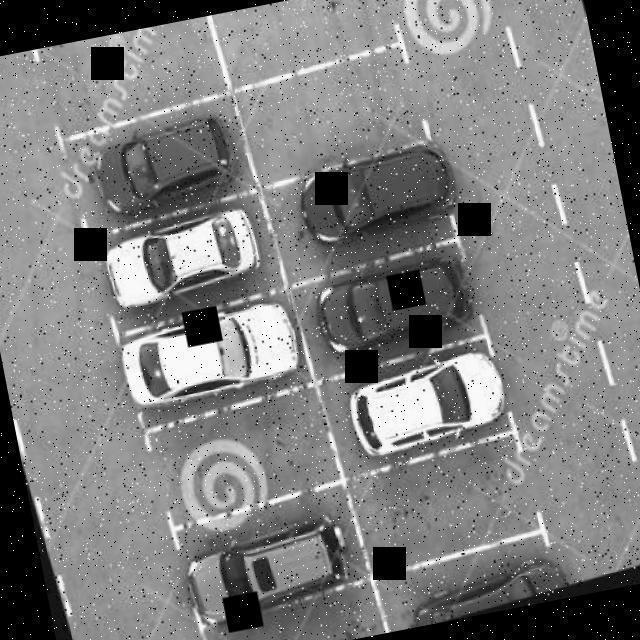space-empty: (140, 393, 337, 527), (233, 58, 428, 191), (350, 440, 532, 566), (36, 16, 224, 134), (211, 0, 405, 90), (207, 582, 379, 640)
space-occupied: (265, 135, 475, 274), (105, 293, 312, 427), (323, 338, 518, 471), (167, 498, 361, 631), (92, 200, 280, 335), (301, 243, 487, 374), (70, 101, 248, 226), (385, 535, 573, 631)
